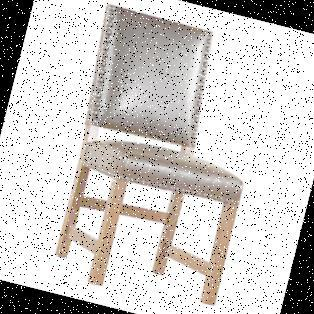Silla: (42, 4, 280, 314)
